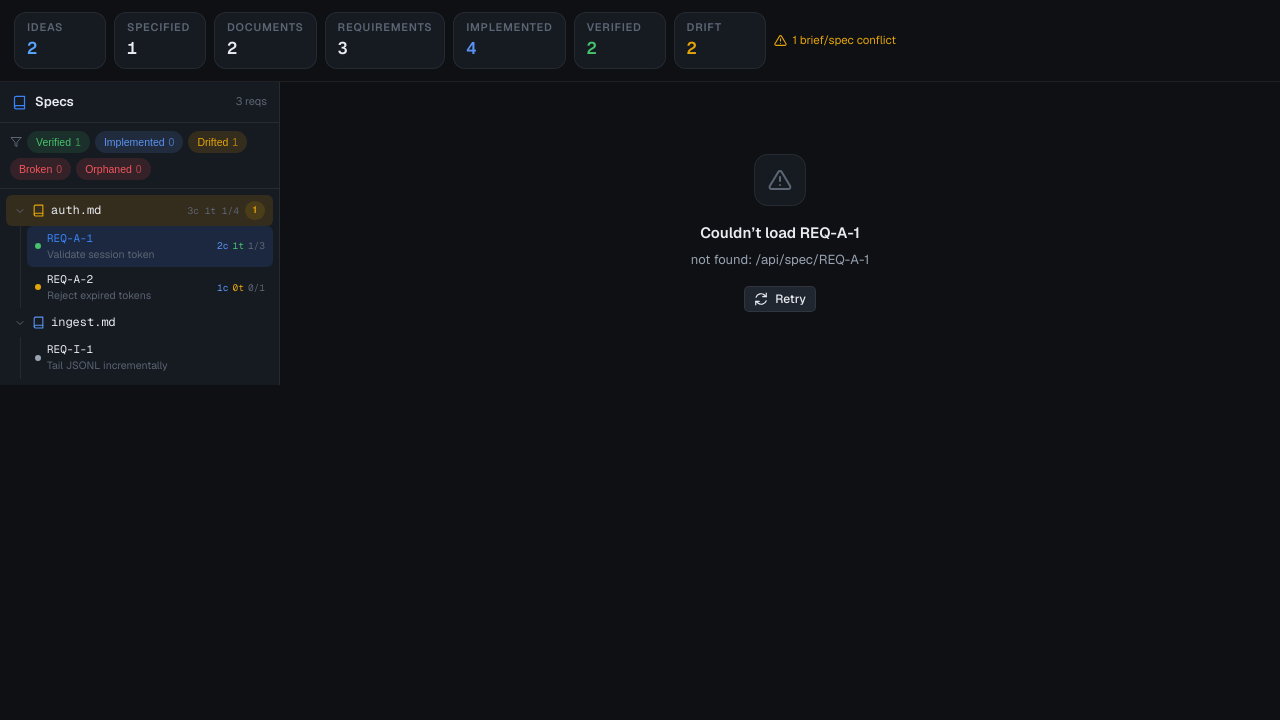
Test: SpecsPage (REQ-DESKTOP-022) › 012.A3: a failed detail fetch renders an error with a working retry
Expected: the text "Couldn’t load REQ-A-1" is shown, [691,222,869,244]
Click the button "Retry" at (780, 299), box [744,286,816,312]
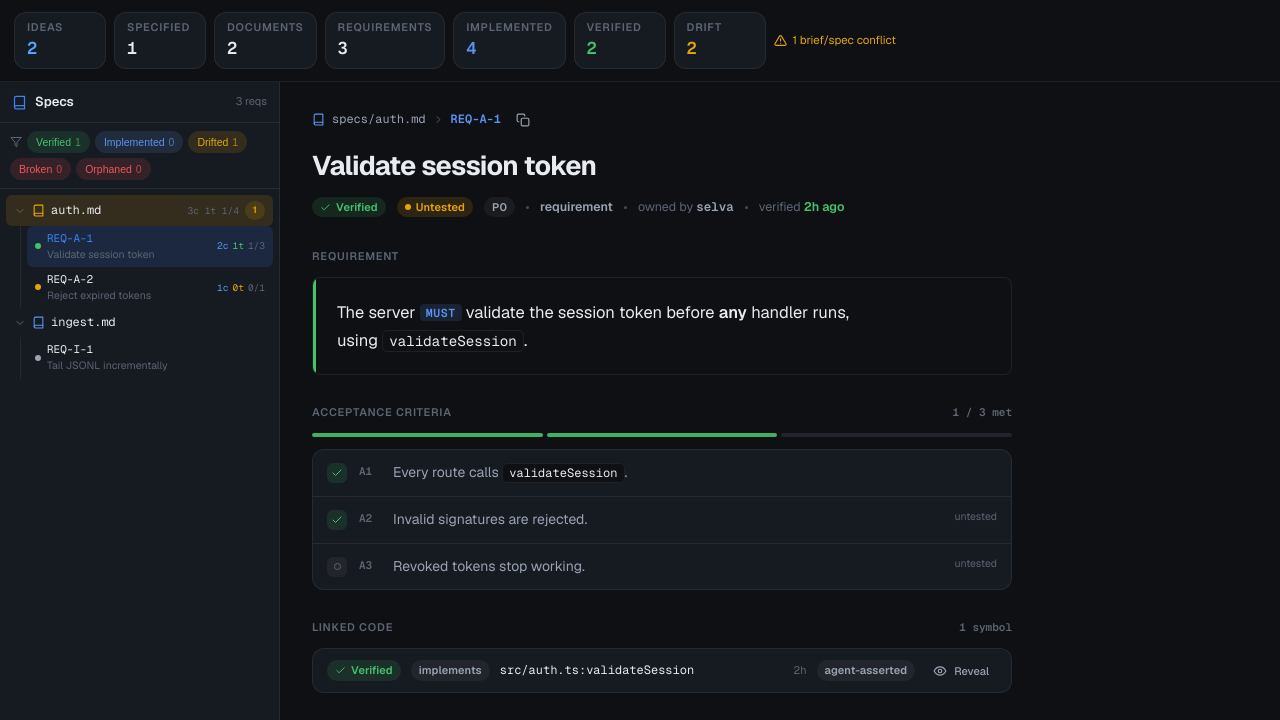
Expected: the heading "Validate session token" is shown, [312,148,596,183]
